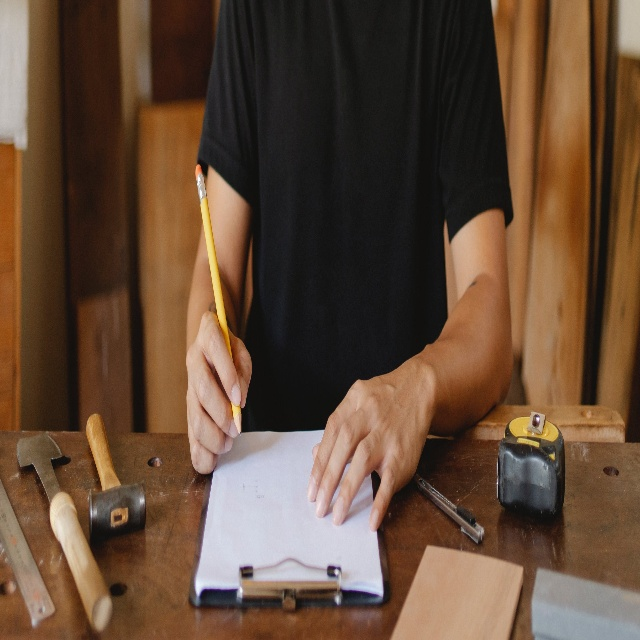Sin_guantes: (306, 354, 436, 532), (186, 310, 252, 475)
